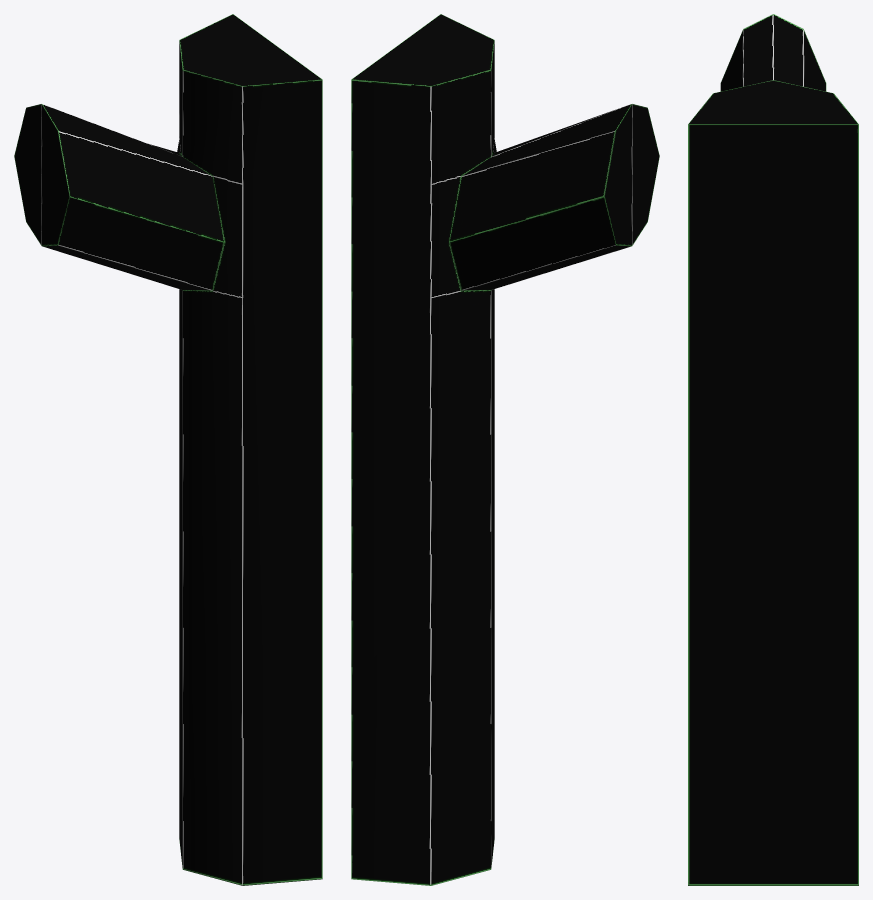
Rendered from Pillar.FBX.
3 renders of one model, left to right at view 1: azimuth 30°, elevation 25°; view 2: azimuth 150°, elevation 25°; view 3: azimuth 270°, elevation 25°, orthographic. The views are drawn at different scales.
Parts seen in each view (by area): view 1: Cylinder001; view 2: Cylinder001; view 3: Cylinder001.
Part boxes in pixels (bbox=[...]): Cylinder001: bbox=[14, 14, 322, 885]; Cylinder001: bbox=[351, 14, 659, 885]; Cylinder001: bbox=[688, 14, 858, 885].
Bounding box in the file's own units: 31.15 × 101 × 20.49.
